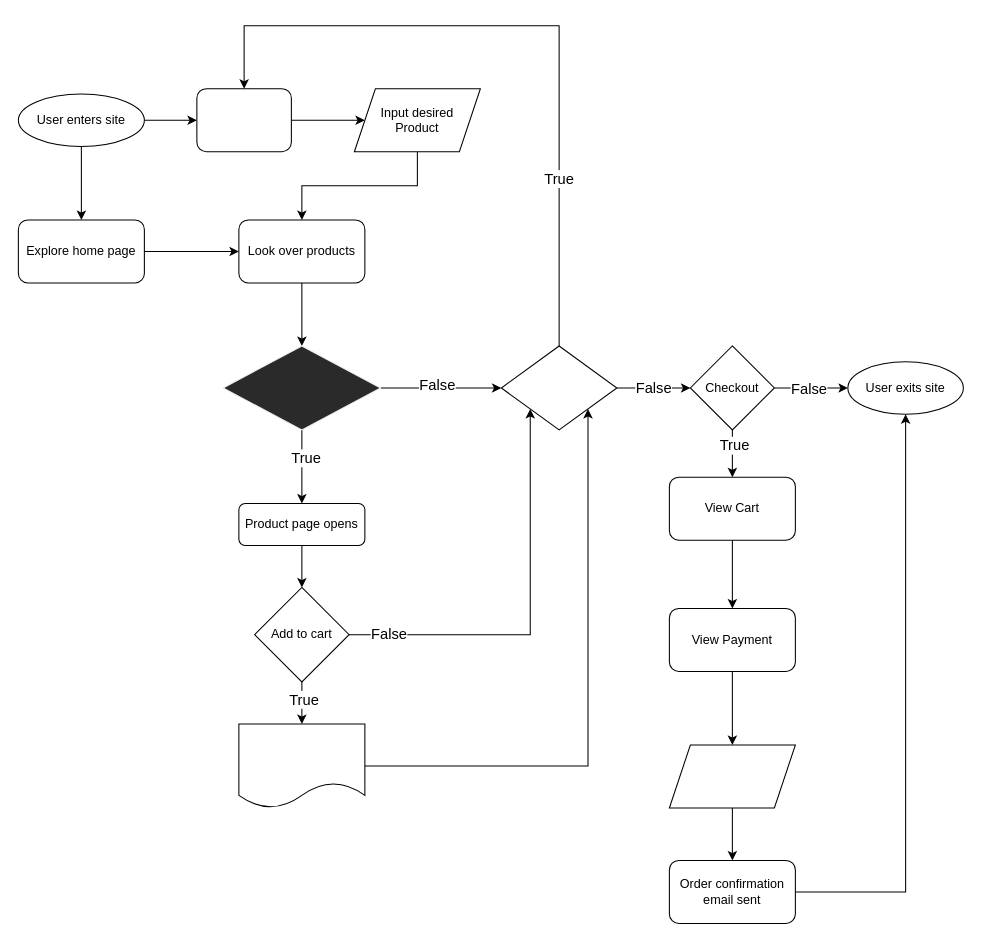
Image size: 982x942. Some labels were removed from this diagram. Each missing label, with the centre of its shape:
"Added to cart confirmation" belongs at [301,765].
"Continue shopping" belongs at [558,387].
"Input payment info" belongs at [731,776].
"Search for a product" belongs at [243,120].
"View a specific product" belongs at [301,387].
